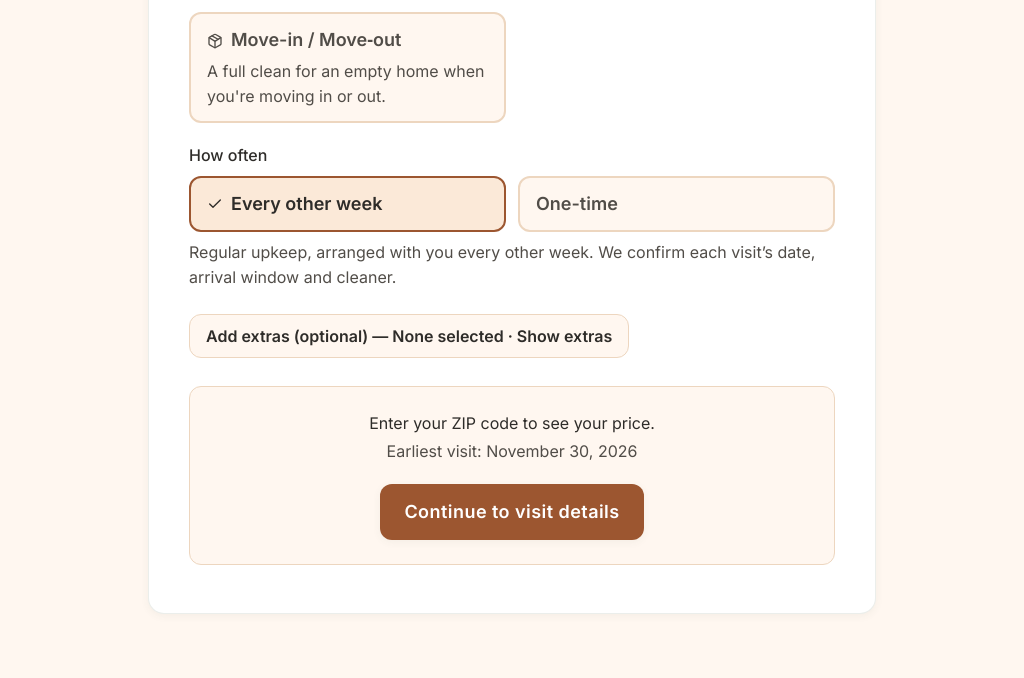
Test: fix7 — UX audit fixes › step 1: extras button shows the selection state with Show/Hide text
(page scrolled)
Click the button "Add extras (optional) — None selected · Show extras": (409, 336) [189,314,629,358]
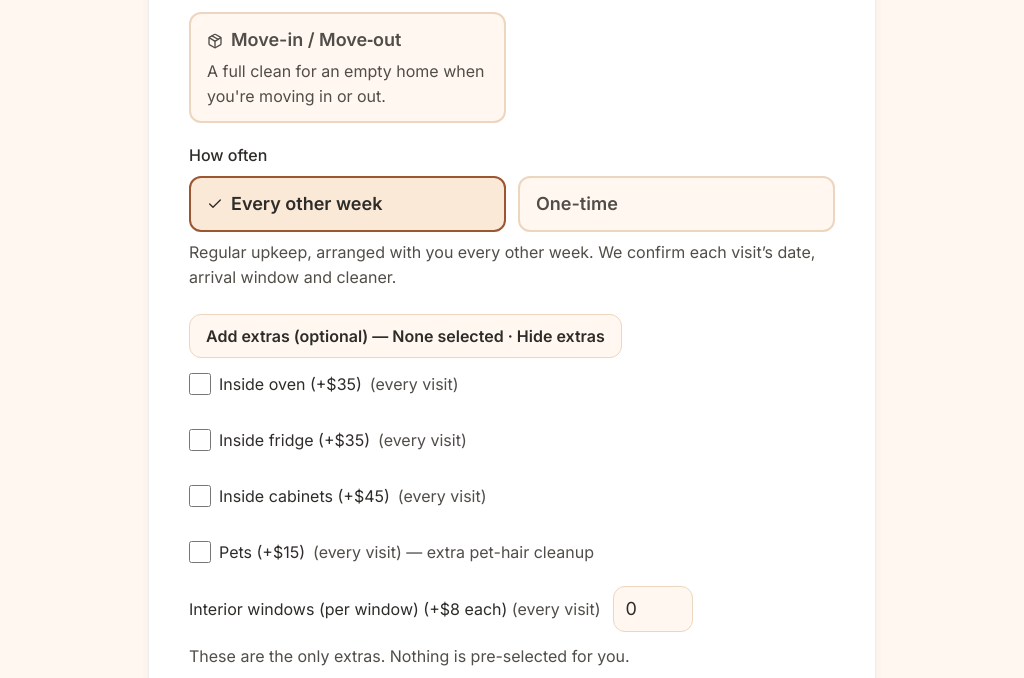
Now the button "Add extras (optional) — None selected · Hide extras" is shown, box [189,314,622,358]
Click the checkbox labelled "Inside oven (+$35) (every visit)": (200, 384) [189,373,211,395]
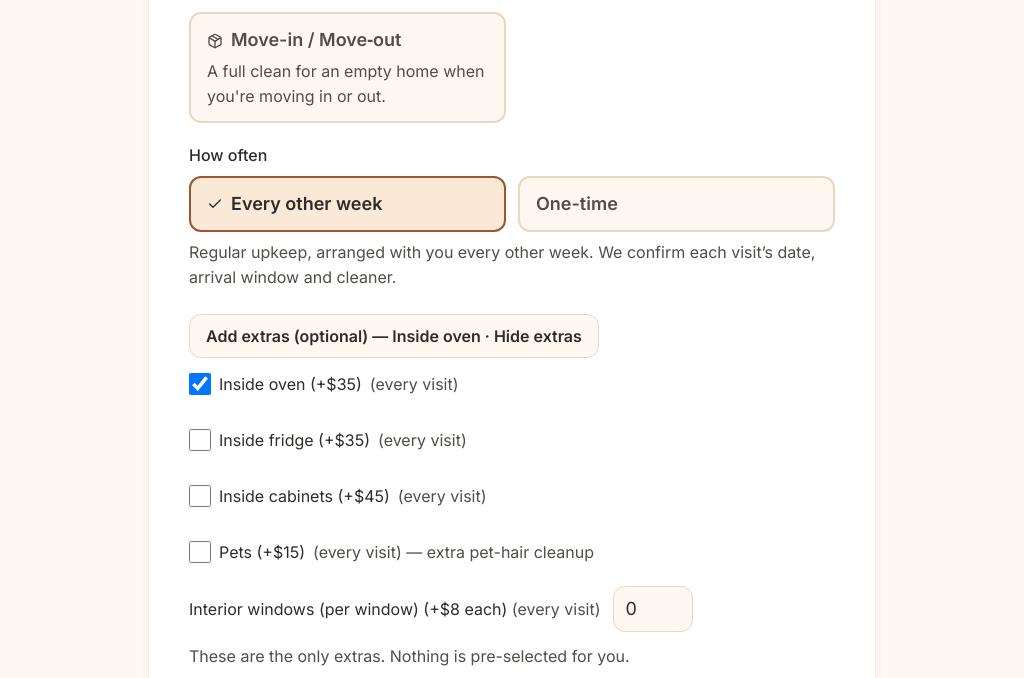
Now the button "Add extras (optional) — Inside oven · Hide extras" is shown, box [189,314,599,358]
Now the button "Add extras (optional) —" no longer shows "None selected"
